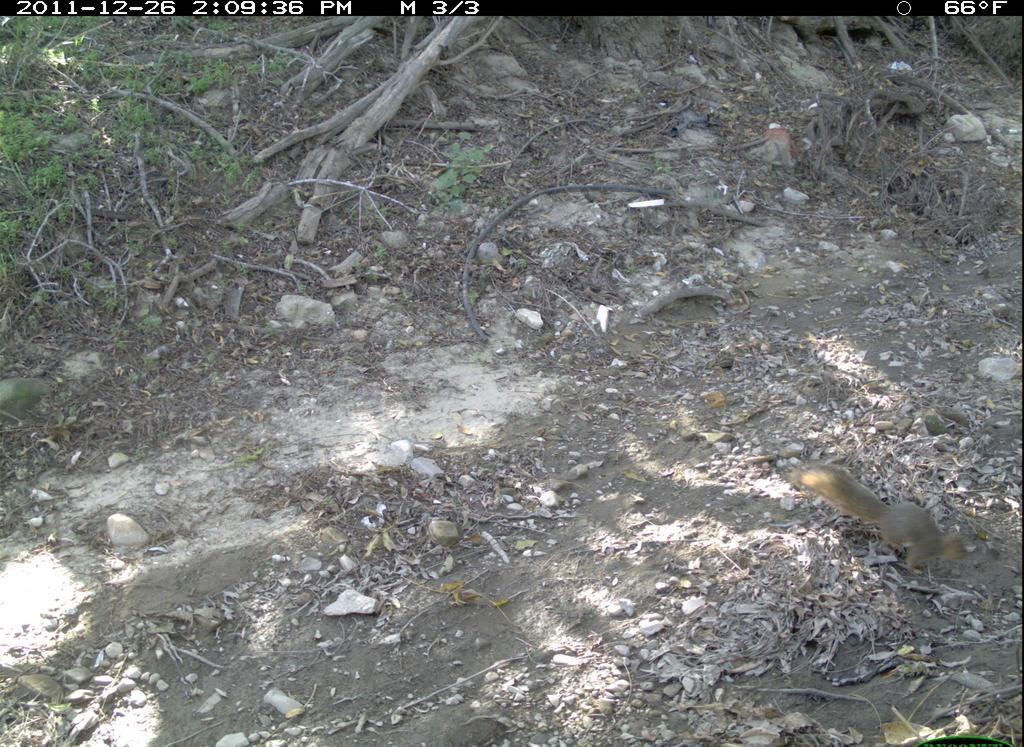squirrel: (790, 445, 993, 579)
